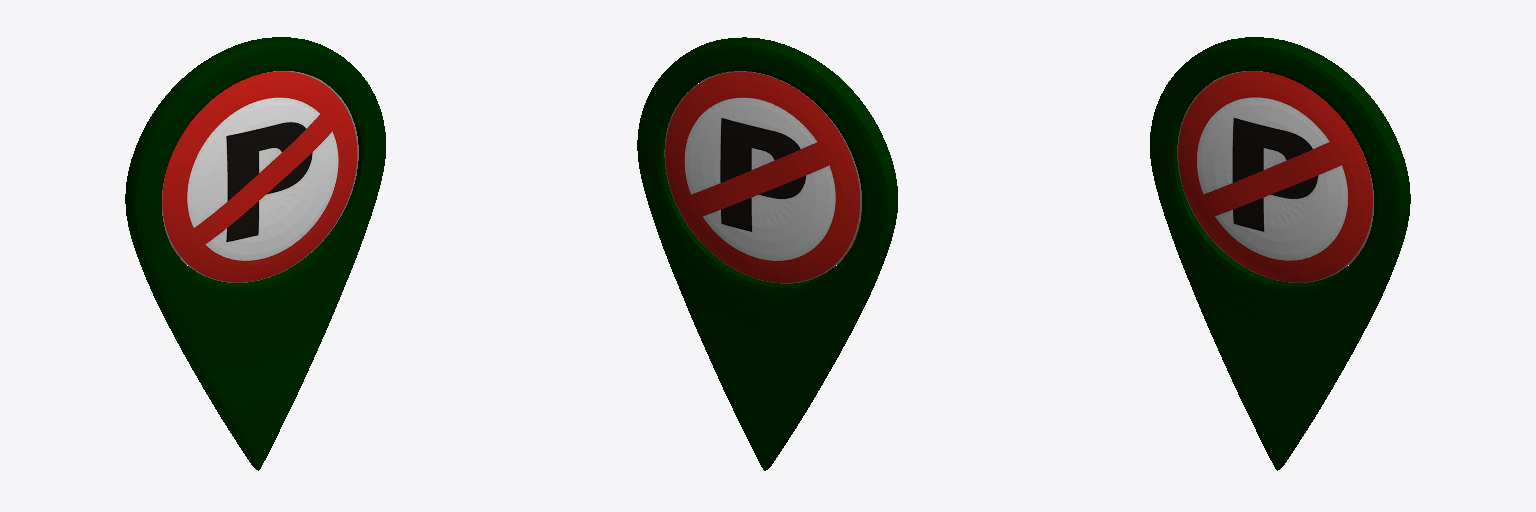
3 renders of one model, left to right at view 1: azimuth 30°, elevation 25°; view 2: azimuth 150°, elevation 25°; view 3: azimuth 330°, elevation 25°, orthographic.
Visible parts, largest first — view 1: Circle.032_Circle.007, Circle.020_Circle.037; view 2: Circle.032_Circle.007, Circle.020_Circle.037; view 3: Circle.032_Circle.007, Circle.020_Circle.037.
Part boxes in pixels (x1,y1,x2,y2): Circle.032_Circle.007: (125, 37, 385, 470); Circle.020_Circle.037: (162, 71, 358, 282); Circle.032_Circle.007: (637, 37, 897, 470); Circle.020_Circle.037: (664, 71, 861, 283); Circle.032_Circle.007: (1150, 37, 1410, 470); Circle.020_Circle.037: (1177, 71, 1373, 282).
Size of the model in its own units: 2.69 by 4.3 by 0.3594.
Materials: 4 (1 with a texture image).